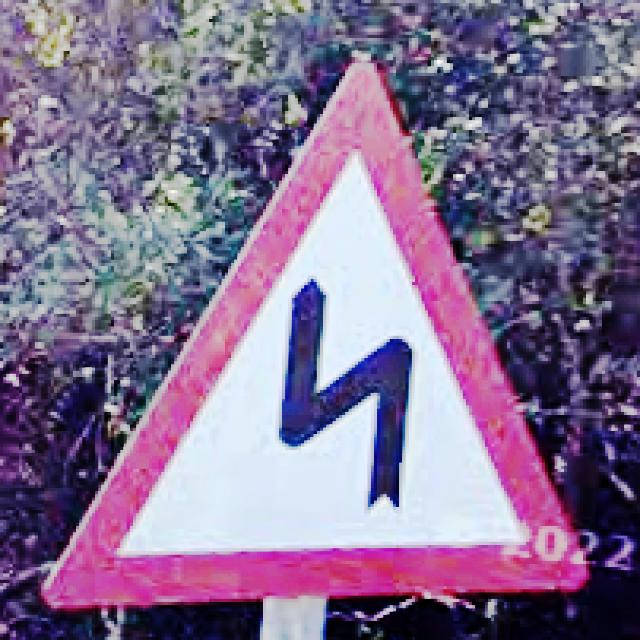doublebendleft: (41, 60, 586, 611)
